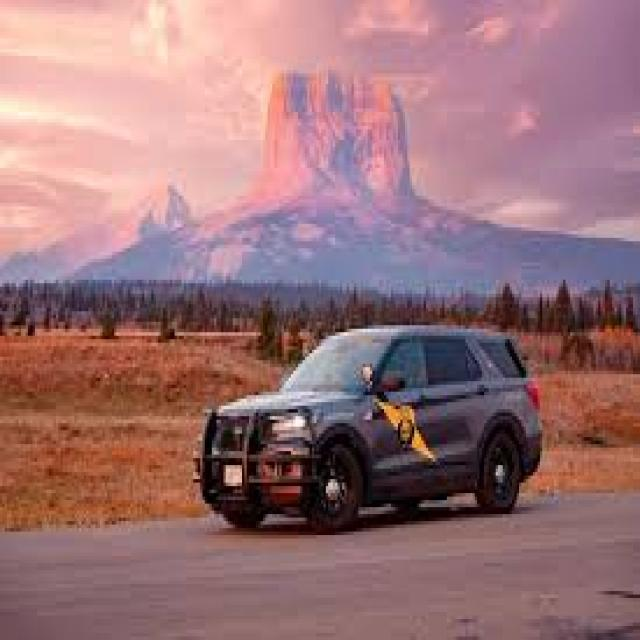cop: (196, 322, 544, 538)
